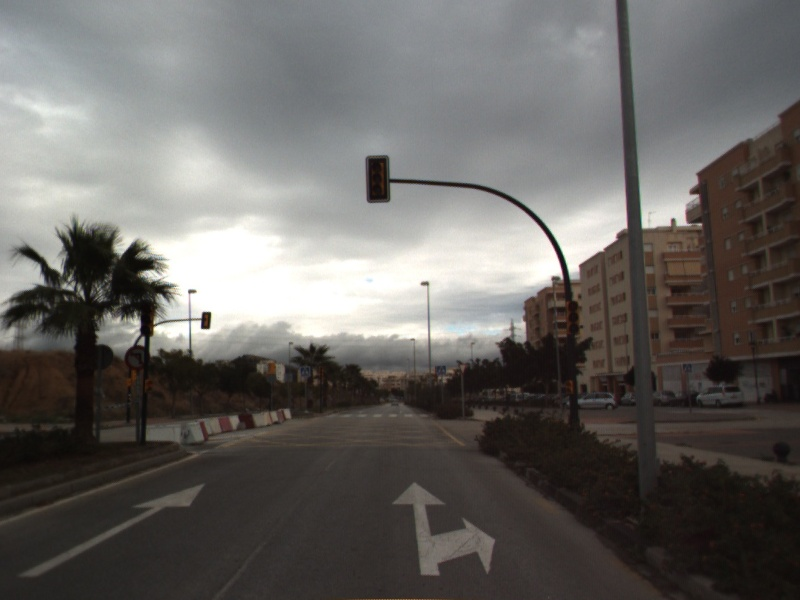STRAIGHT: (16, 481, 208, 580)
STRAIGHT_RIGHT: (390, 480, 497, 578)
